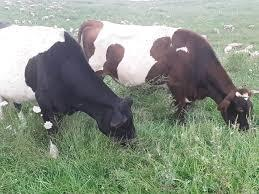cow: (77, 19, 252, 131), (0, 22, 138, 158)
